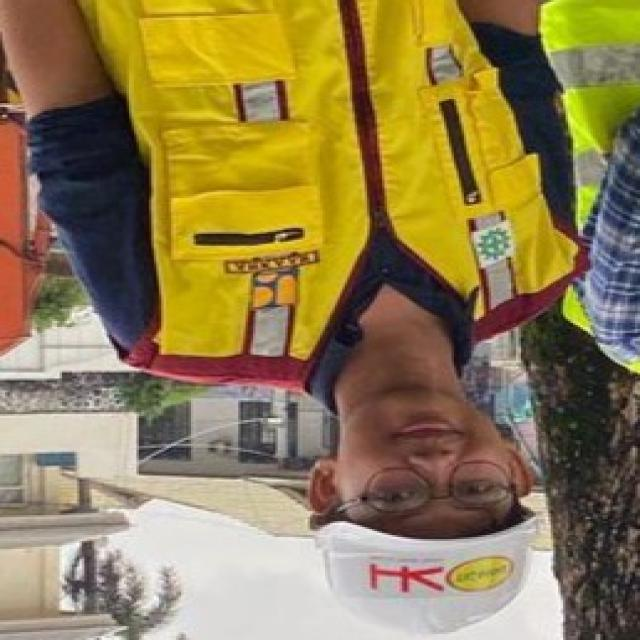safetyhelmet: (298, 404, 544, 631)
